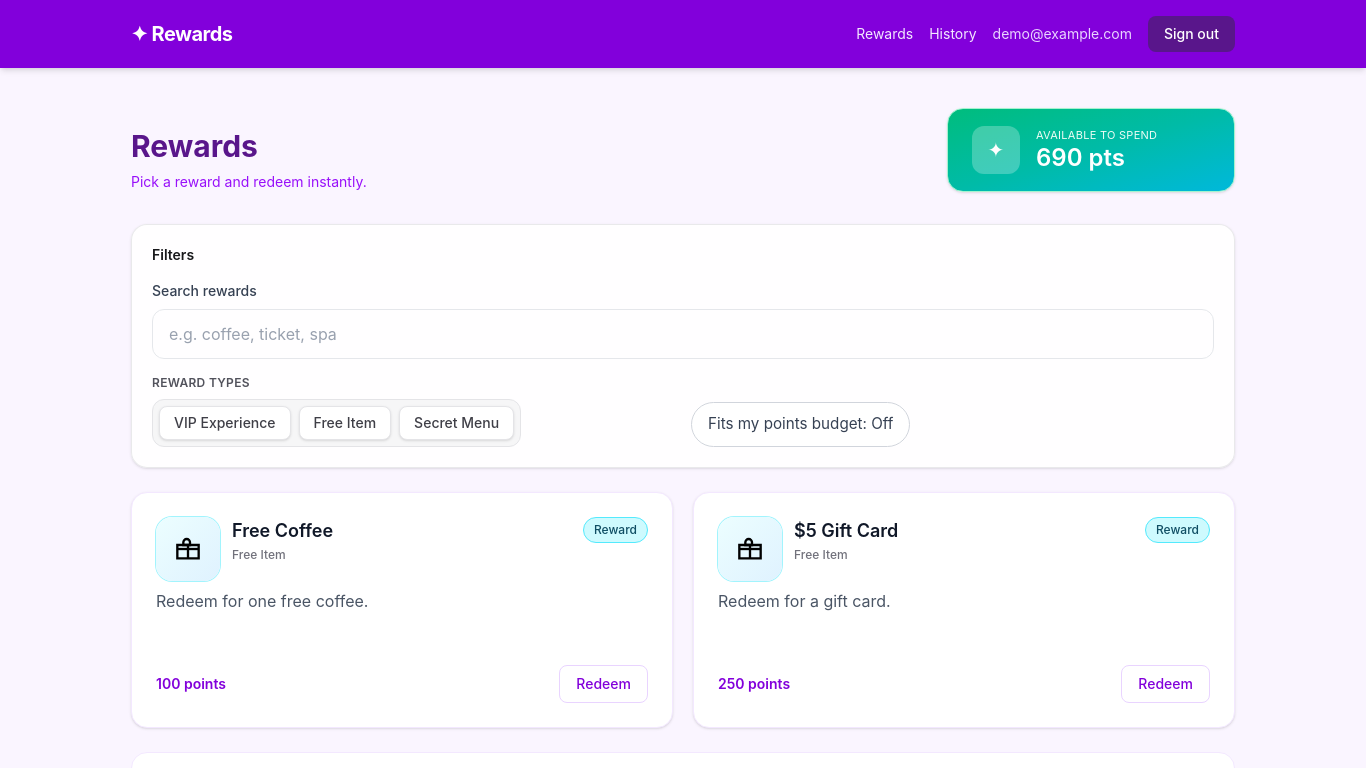
Scenario: RewardsPage › stacks success banners for multiple completed redemptions
This screenshot has width=1366, height=768.
Expected: the heading "Free Coffee" is shown, [232,517,333,545]
Expected: the heading "$5 Gift Card" is shown, [794,517,898,545]
Click the button "Redeem" in the row of "100": (604, 684) [559,665,648,703]
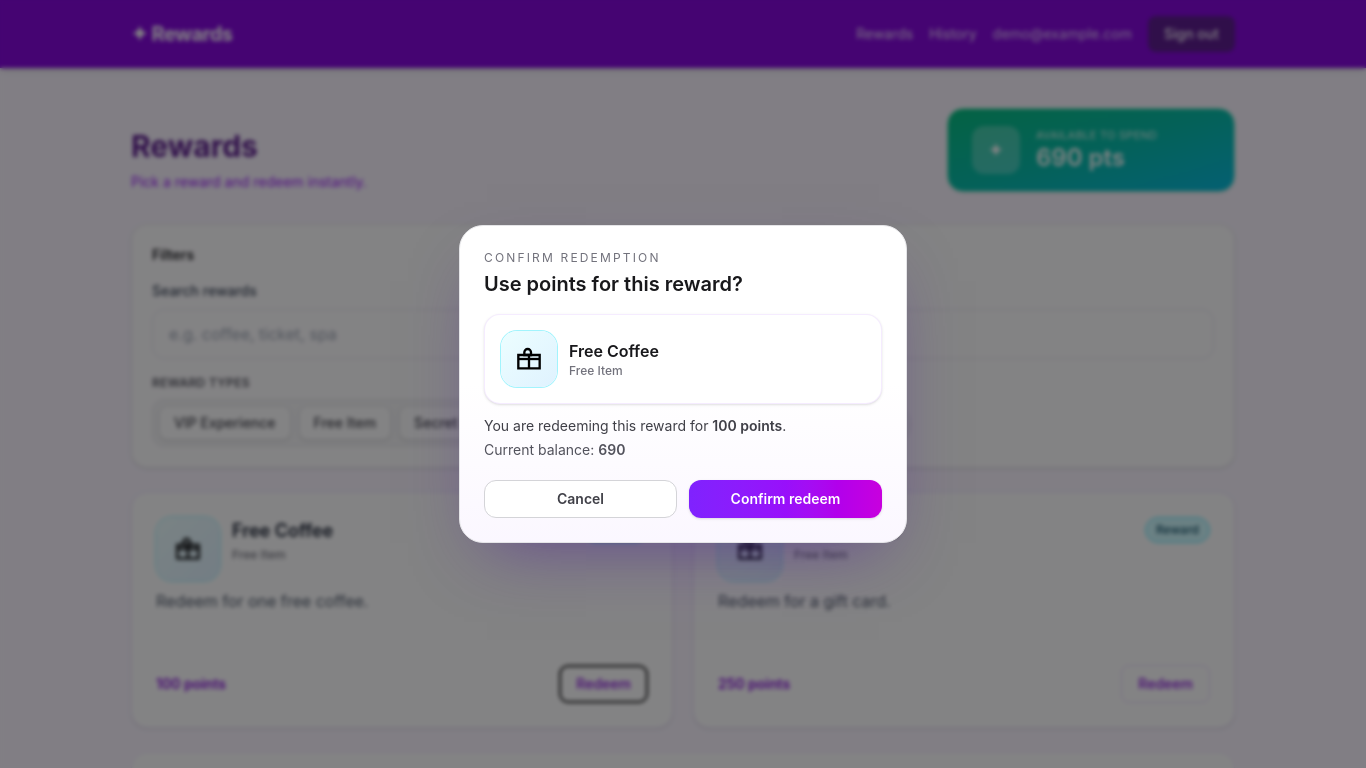
Click the button "Confirm redeem": (786, 499) [689,480,882,518]
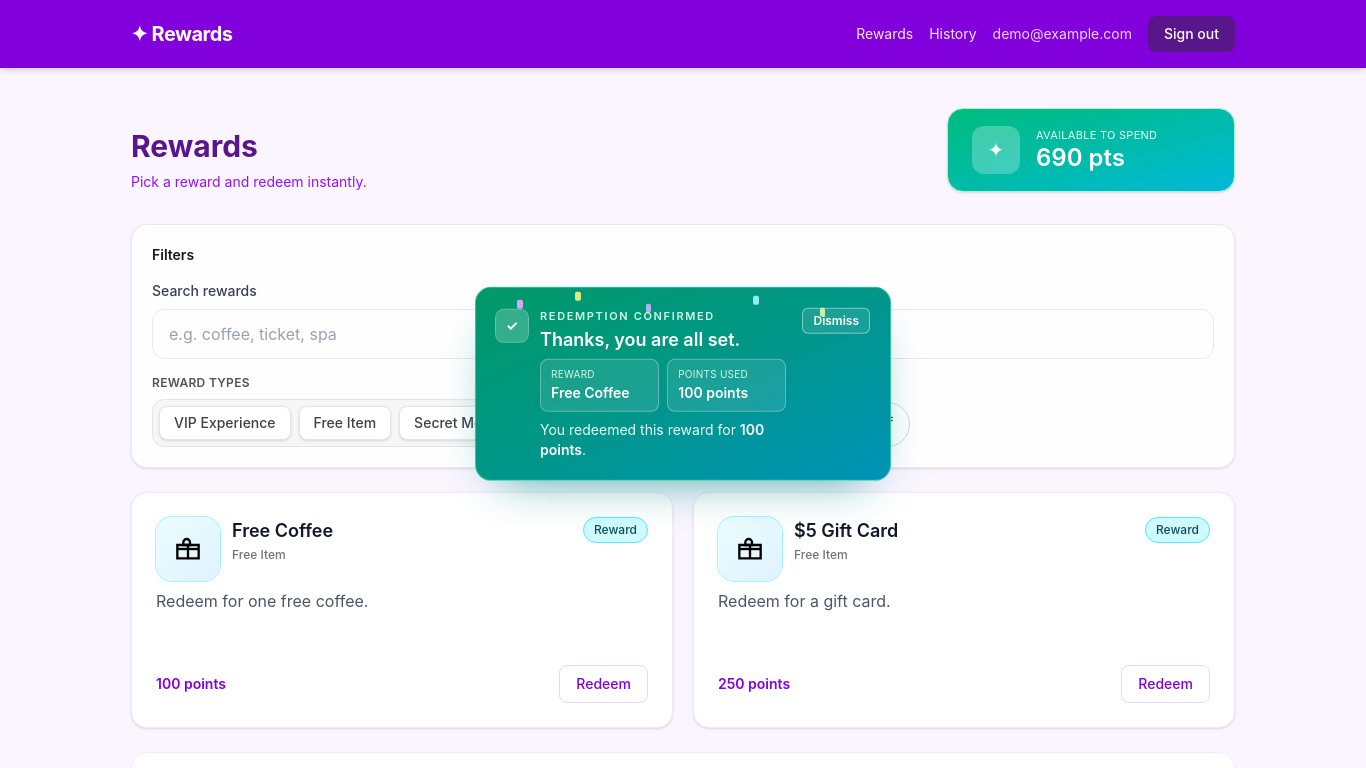
Result: the number of headings "Thanks, you are all set." is 1 at [540,328,740,349]
Result: the text "You redeemed this reward for 100 points." is shown once at [540,420,786,460]
Click the button "Redeem" in the row of "250": (1166, 684) [1121,665,1210,703]
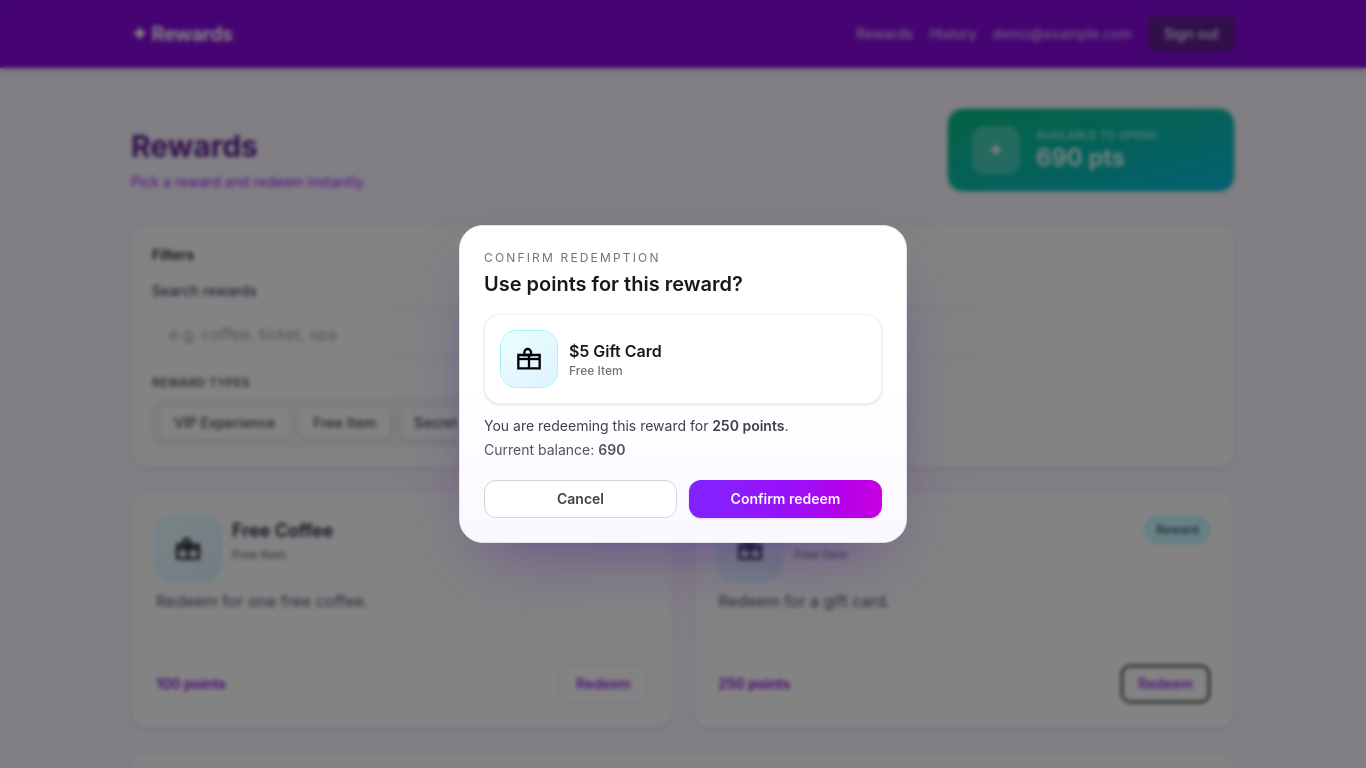
Click the button "Confirm redeem": (786, 499) [689,480,882,518]
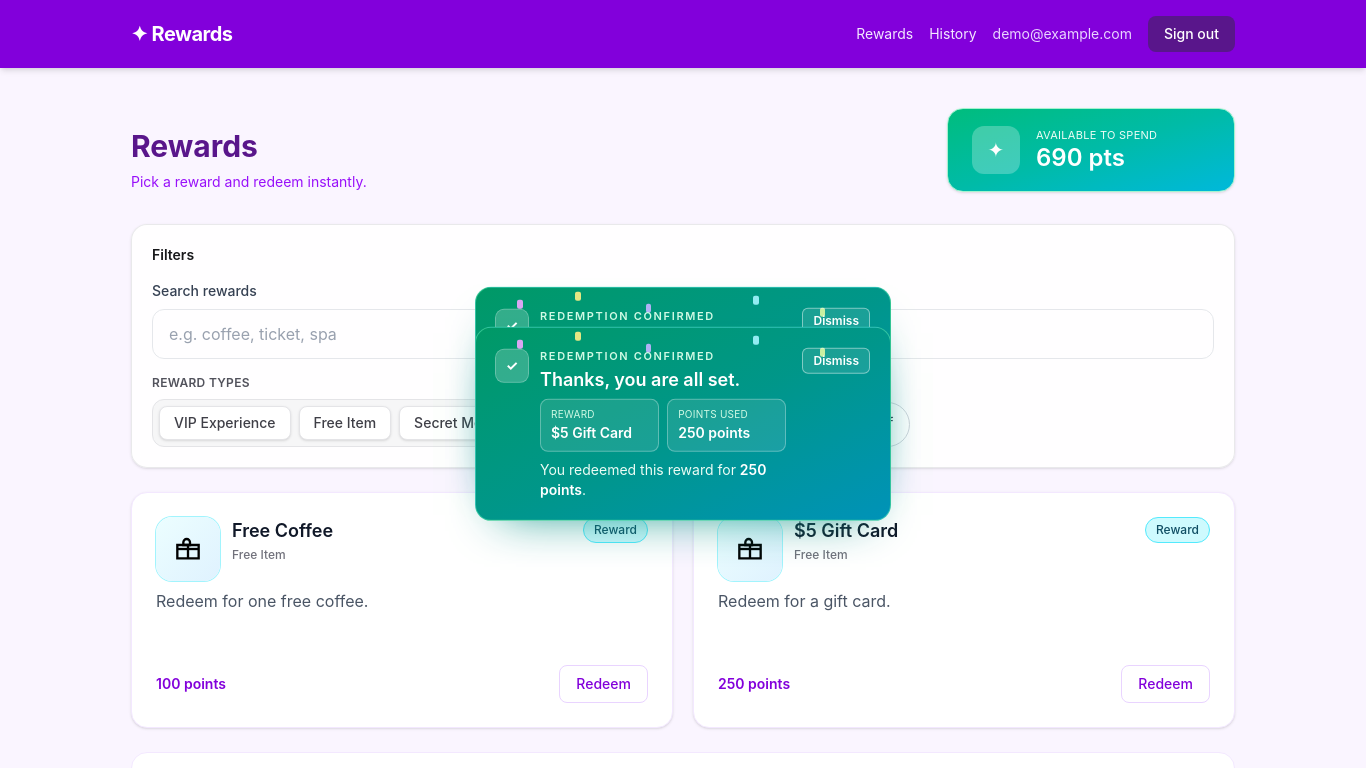
Result: the number of headings "Thanks, you are all set." is 2 at [540,328,740,349]; [540,368,740,389]
Result: the text "You redeemed this reward for 100 points." is shown 2 times at [540,420,786,460]; [540,460,786,500]
